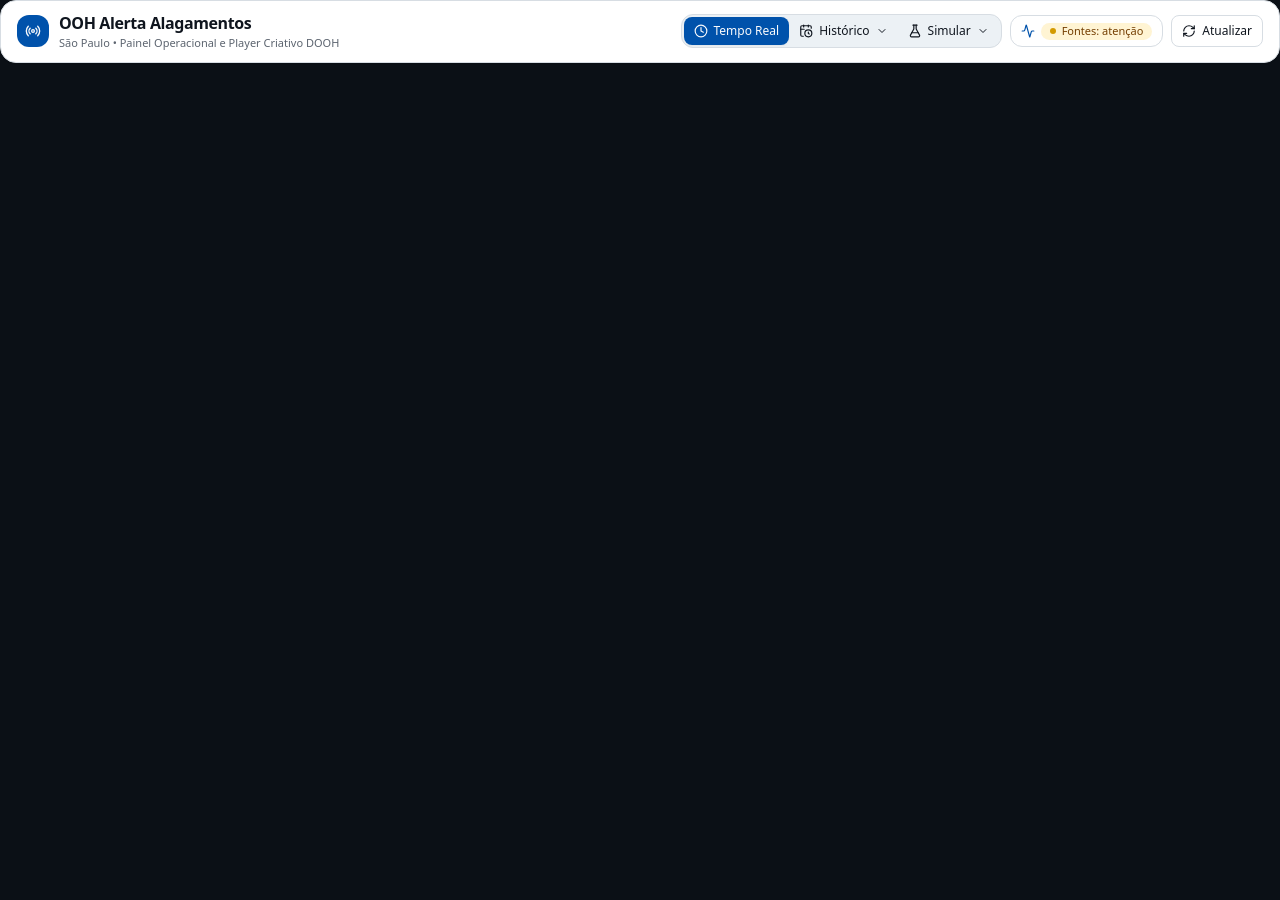
it: TopControlBar › shows lastErrorMessage in sources popover when a provider is degraded
Click the button "Fontes: atenção" at (1087, 31), box [1010,15,1163,47]
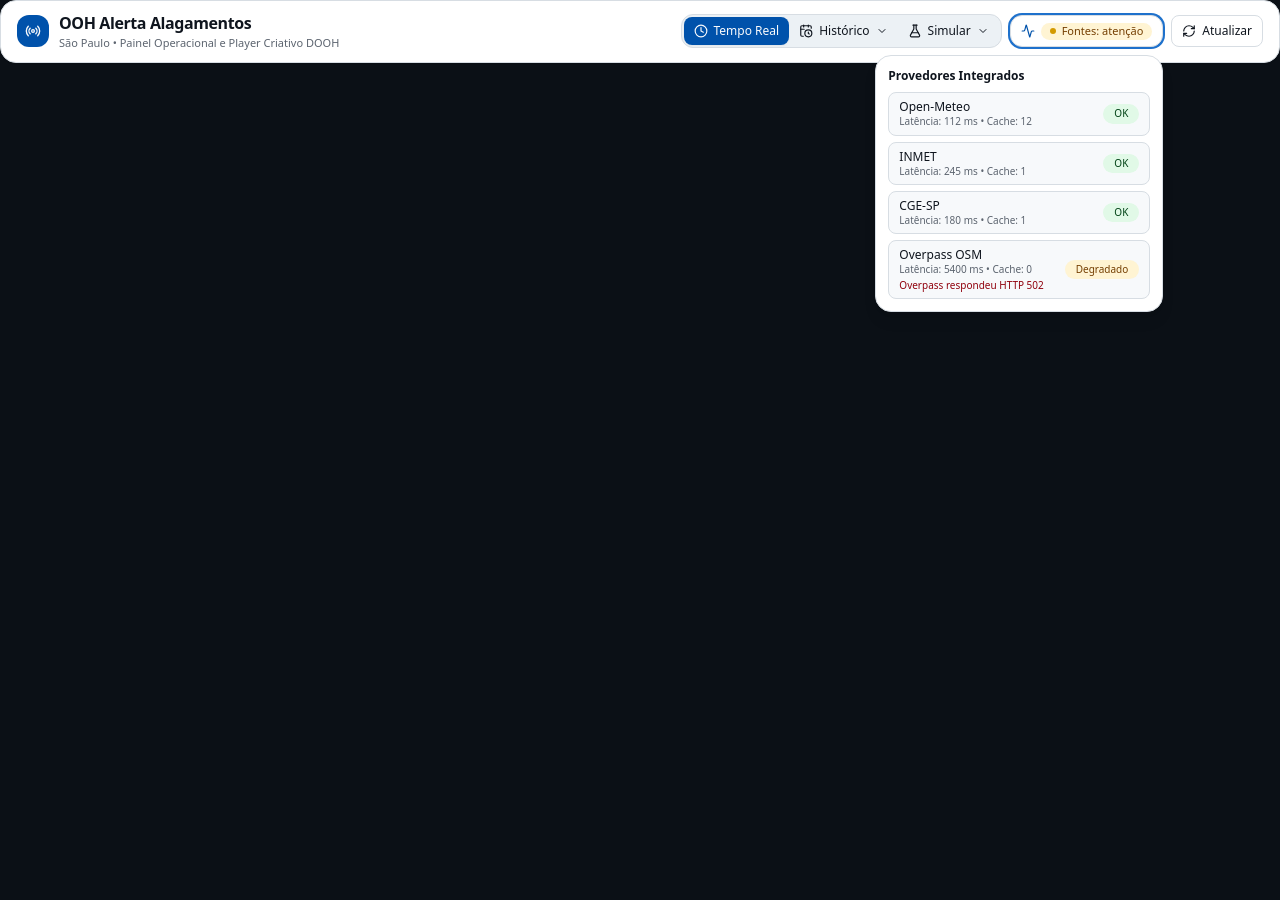
Expected: the text "Overpass OSM" is shown, [899,246,982,263]
Expected: the text "Overpass respondeu HTTP 502" is shown, [899,279,1044,292]
